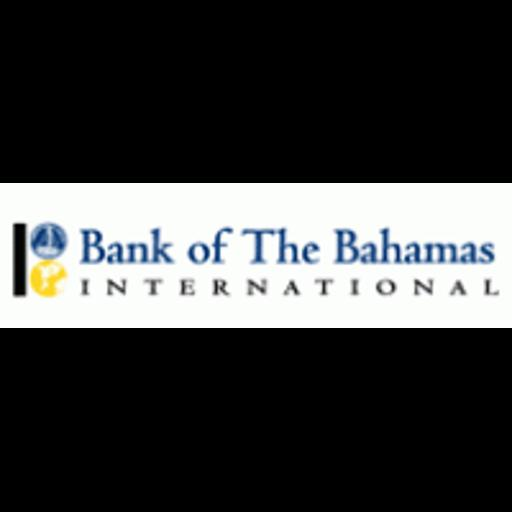Bank of The Bahamas Limited: (0, 183, 512, 328)
